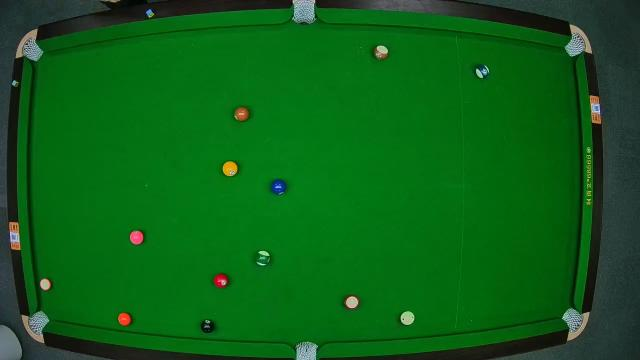bag1: (22, 40, 42, 61)
bag2: (293, 0, 317, 26)
bag3: (566, 34, 588, 57)
bag4: (28, 312, 48, 332)
bag5: (294, 340, 318, 360)
bag6: (564, 310, 582, 332)
ball0: (400, 310, 416, 326)
ball1: (222, 161, 238, 177)
ball10: (476, 63, 490, 78)
ball11: (344, 294, 360, 310)
ball12: (38, 278, 52, 290)
ball13: (254, 252, 270, 266)
ball14: (373, 43, 389, 61)
ball2: (270, 179, 286, 195)
ball3: (214, 274, 228, 288)
ball4: (130, 229, 144, 244)
ball5: (118, 312, 130, 326)
ball7: (234, 106, 250, 121)
ball8: (200, 319, 216, 333)
